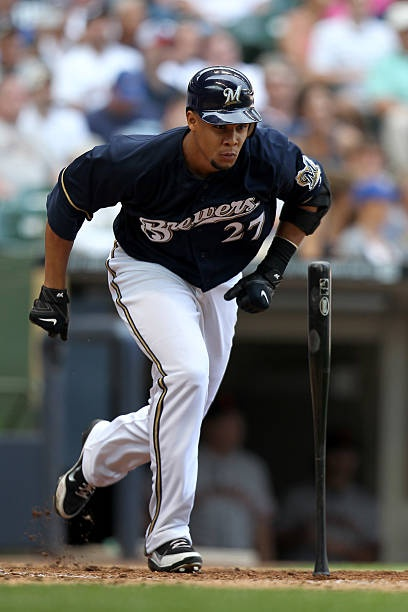bita: (306, 262, 338, 572)
